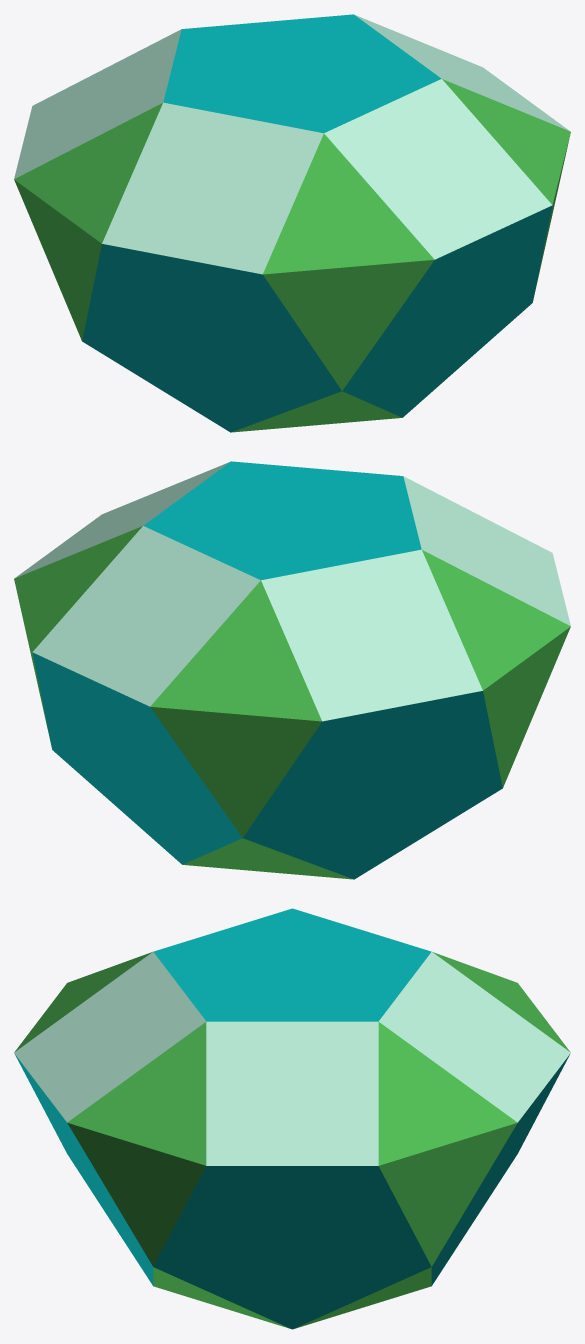
The model's file is J33.GirocupularrotondaPentagonal.gltf.
3 views of the same model, one above another, from view 1: azimuth 30°, elevation 25°; view 2: azimuth 150°, elevation 25°; view 3: azimuth 270°, elevation 25° (orthographic). The views are drawn at different scales.
Visible parts, largest first — view 1: J33.GirocupularrotondaPentagonal; view 2: J33.GirocupularrotondaPentagonal; view 3: J33.GirocupularrotondaPentagonal.
Part boxes in pixels (x1=…): J33.GirocupularrotondaPentagonal: x1=14, y1=14, x2=570, y2=432; J33.GirocupularrotondaPentagonal: x1=14, y1=461, x2=570, y2=879; J33.GirocupularrotondaPentagonal: x1=14, y1=908, x2=570, y2=1329.
Bounding box in the file's own units: 19.02 × 11.81 × 20.
